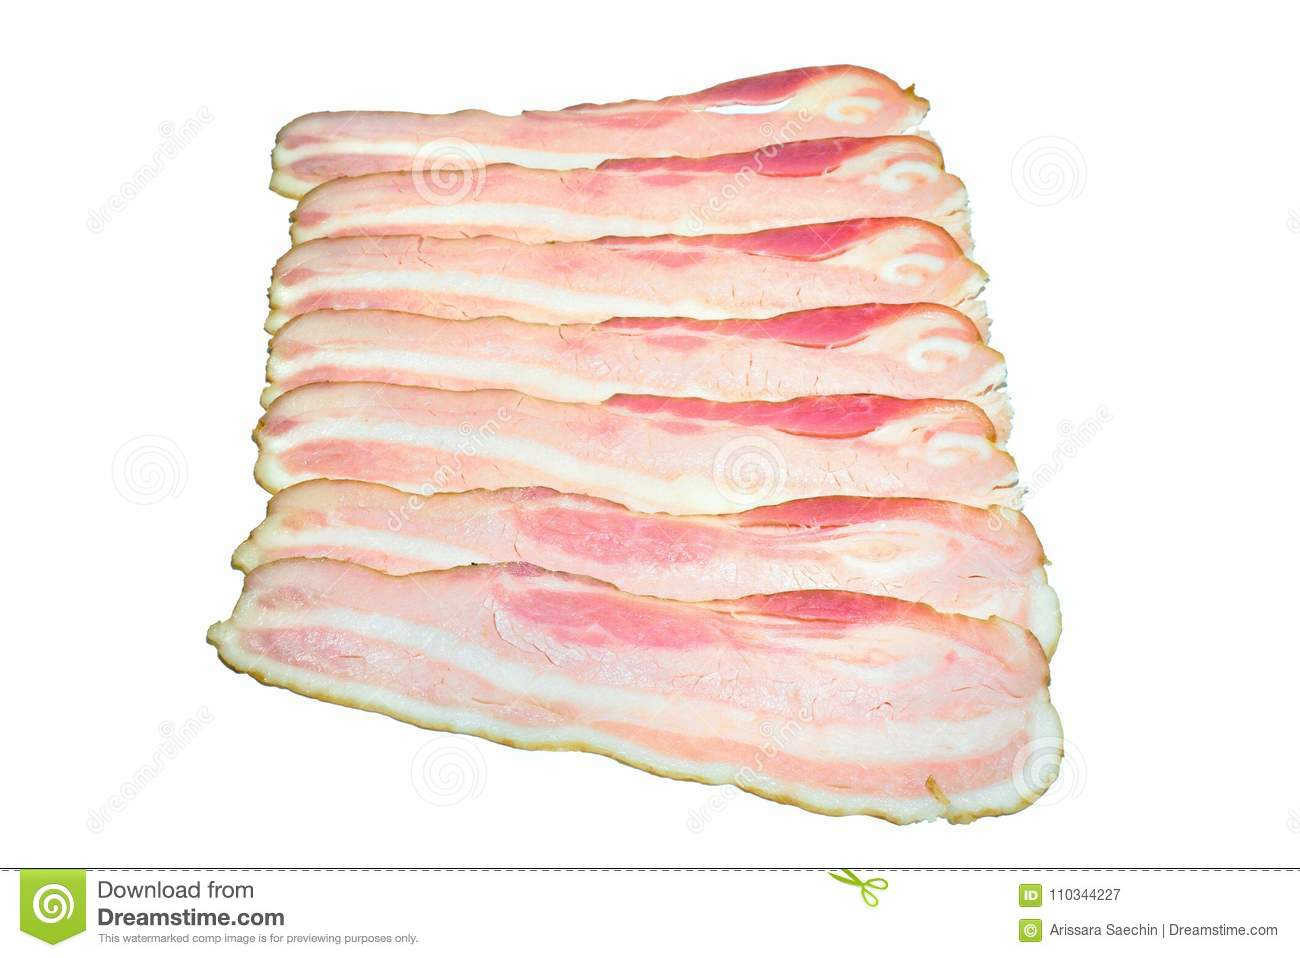bacon: (210, 78, 1067, 811)
